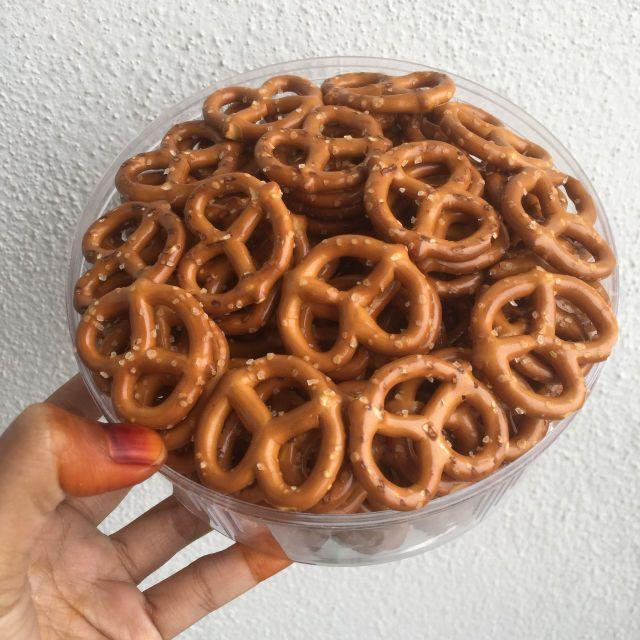Salatini: (69, 59, 625, 518)
